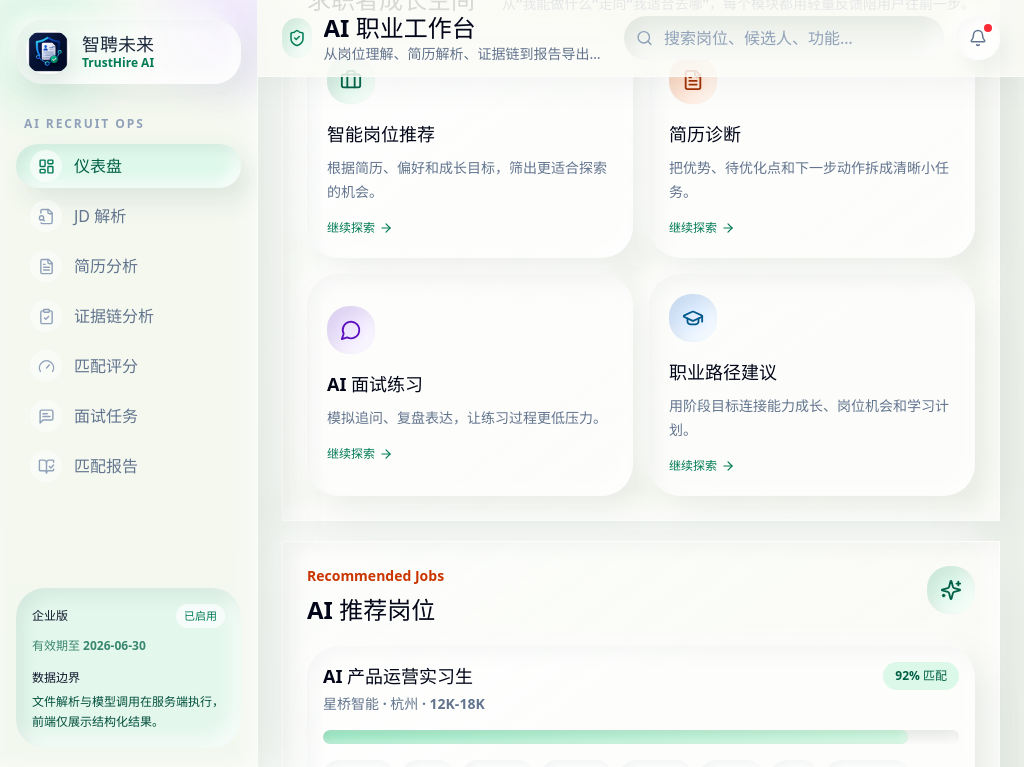
Test: TrustHire AI interactions › opens career path guidance and can base it on sample flow data
(page scrolled)
Click the button "职业路径建议 用阶段目标连接能力成长、岗位机会和学习计划。 继续探索". click: (693, 318)
box: [649,274,975,496]
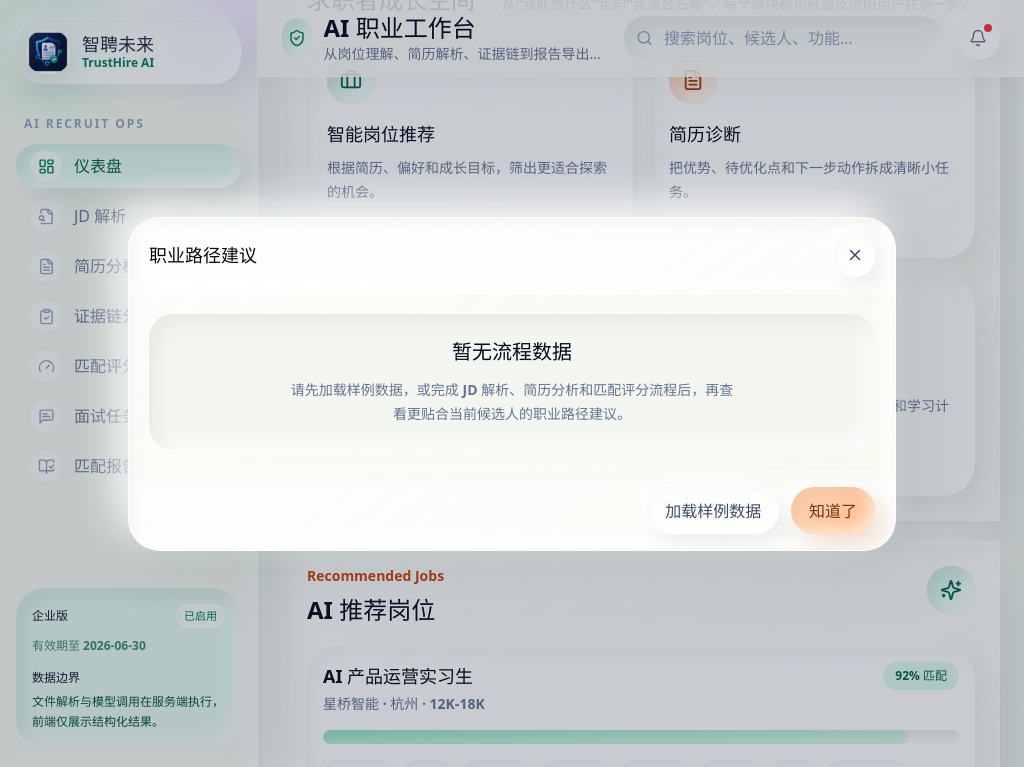
Check: the dialog "职业路径建议" is shown, box [128,217,896,551]
Check: the text "暂无流程数据" is shown, box [452,338,572,365]
Click the button "加载样例数据". click: (713, 511)
box: [647,487,779,534]
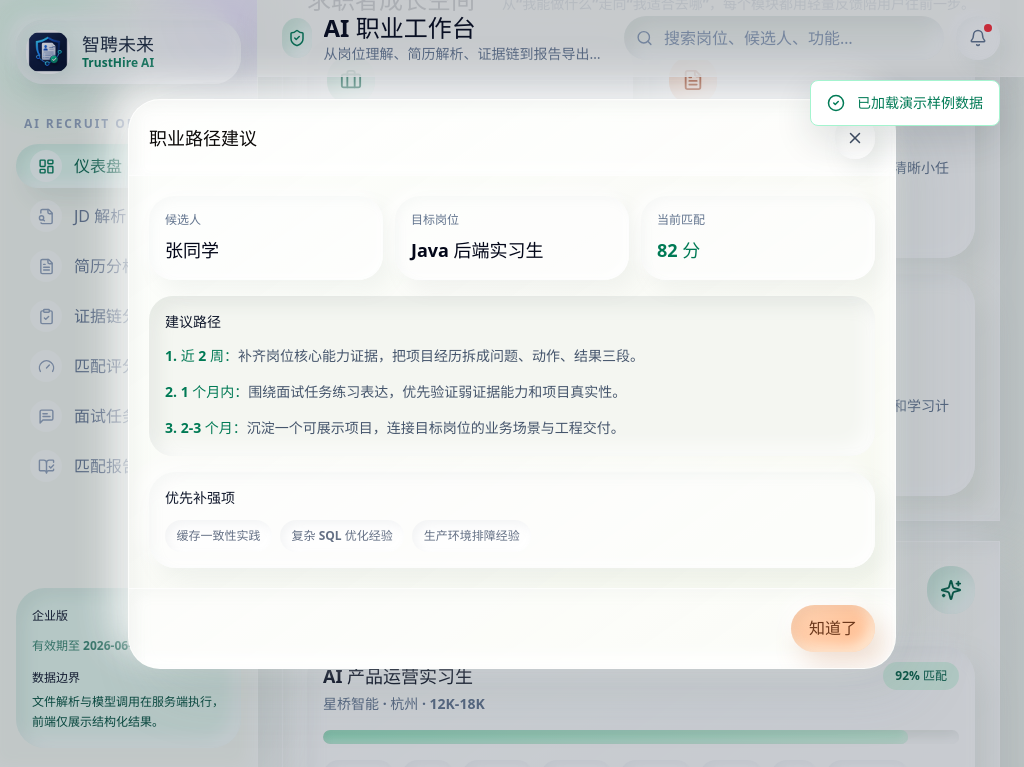
Check: the text "张同学" is shown, box [165,238,219,262]
Check: the text "Java 后端实习生" is shown, box [411,238,544,262]
Check: the text "缓存一致性实践" is shown, box [165,520,272,552]
